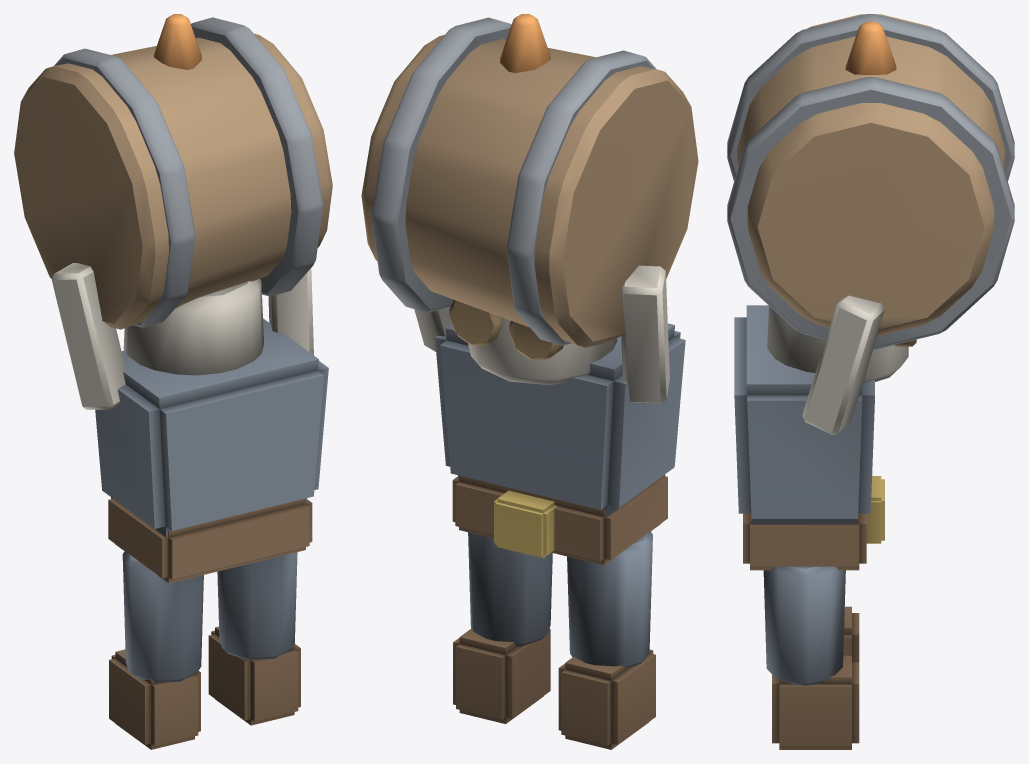
File: thesis_breaker_lod0.glb
3 views of the same model, side by side, from view 1: azimuth 30°, elevation 25°; view 2: azimuth 150°, elevation 25°; view 3: azimuth 270°, elevation 25° (orthographic). The views are drawn at different scales.
Visible parts, largest first — view 1: thesis_breaker; view 2: thesis_breaker; view 3: thesis_breaker.
Boxes of the visible parts, box(x1,y1,x2,y2) form: thesis_breaker: box(14, 14, 332, 749); thesis_breaker: box(361, 14, 698, 749); thesis_breaker: box(727, 14, 1014, 749).
Bounding box in the file's own units: 0.7183 × 1.84 × 0.6948.
